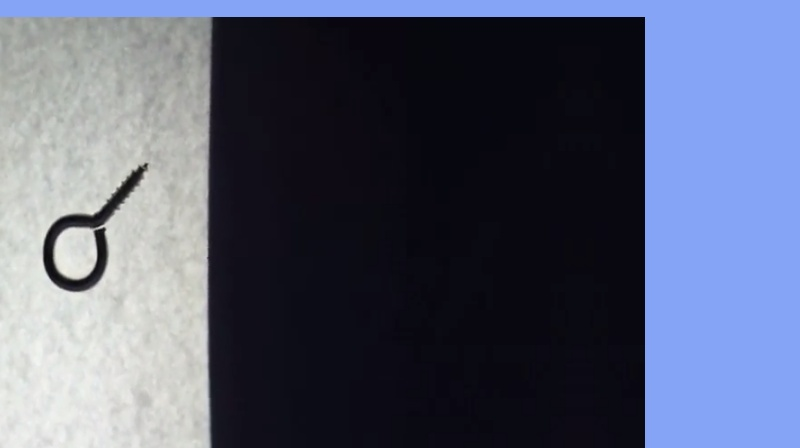O001: (35, 150, 154, 295)
